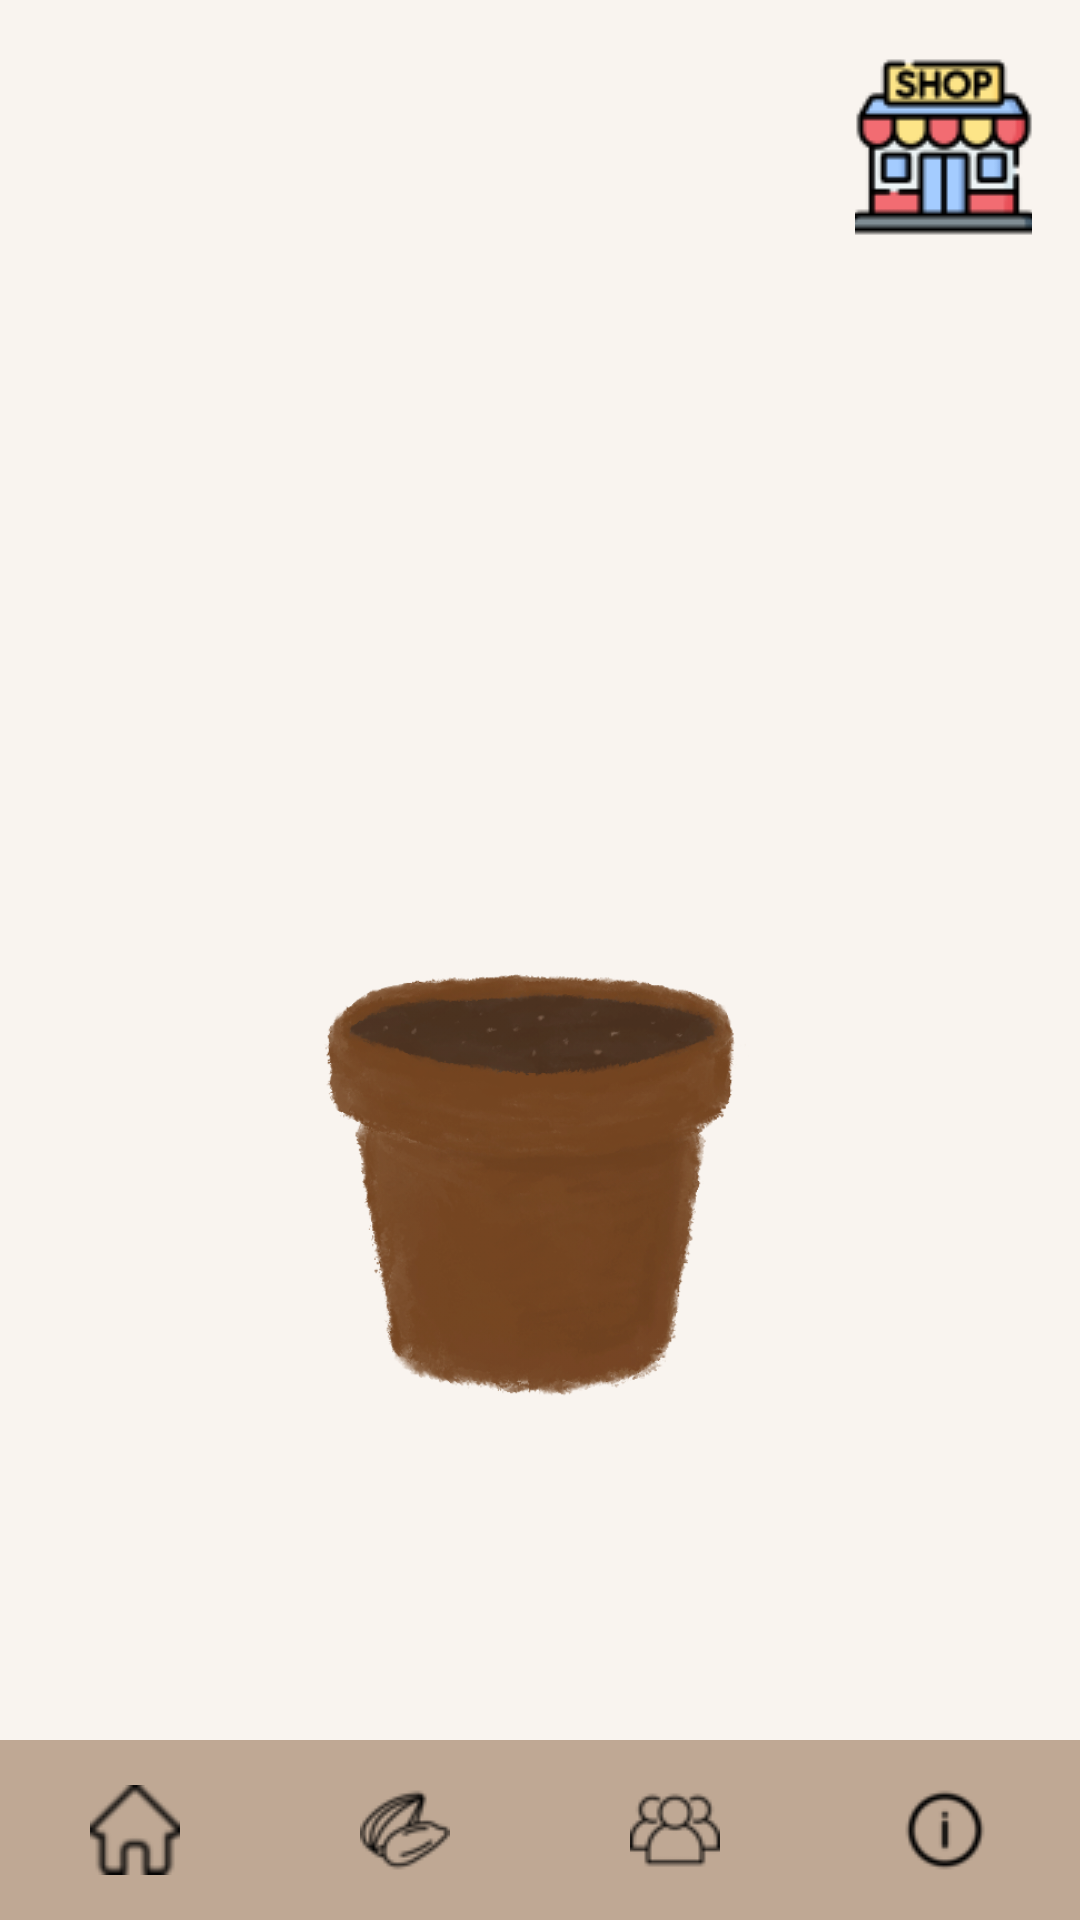

Icon click points for this 1080x1920 phone screenshot, format (x=x, y=y):
friend: (x=675, y=1830)
home: (x=135, y=1830)
info: (x=945, y=1830)
seed: (x=405, y=1830)
